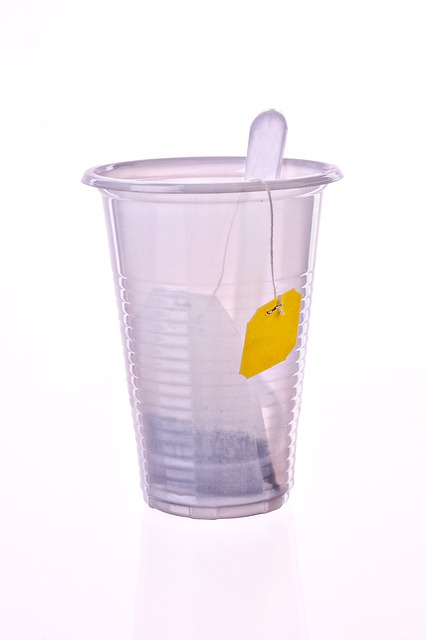cup: (72, 151, 338, 528)
